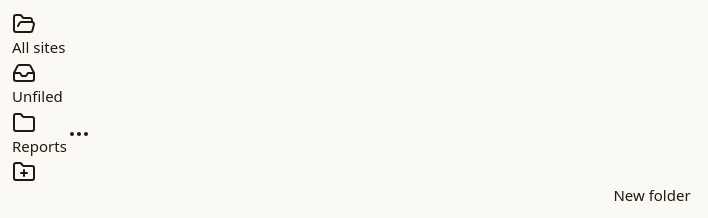
Test case: FolderNav › offers only rename to a workspace writer
Click the button named "Options for folder Reports" at (79, 134), box [67,122,91,146]
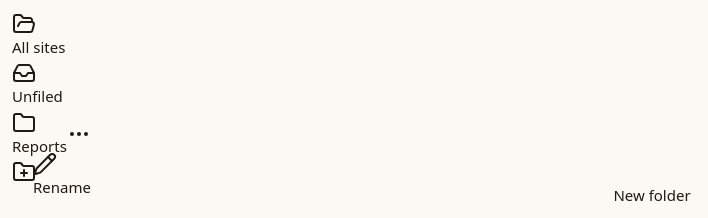
Expected: the menu item "Rename" is shown, [33,152,91,199]
